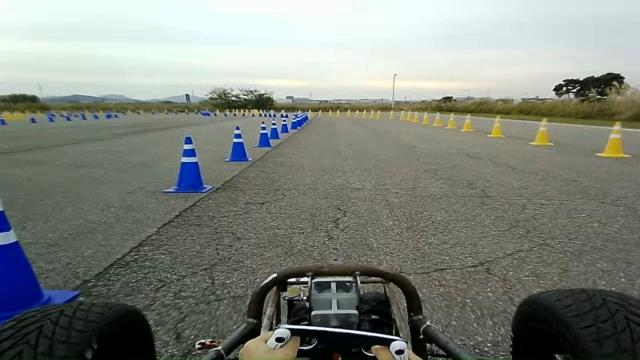blue cone: (0, 205, 81, 324), (162, 135, 214, 193), (224, 125, 252, 162), (254, 121, 273, 148), (268, 119, 280, 140), (280, 122, 289, 134)
yellow cone: (595, 121, 631, 158), (528, 117, 554, 146), (487, 114, 505, 138), (461, 113, 475, 132), (444, 112, 457, 129), (432, 111, 442, 127), (420, 111, 430, 125), (411, 110, 420, 122), (406, 110, 414, 122), (368, 108, 376, 118), (374, 109, 382, 119), (388, 109, 395, 119), (399, 110, 405, 120)
